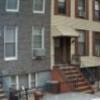stairs: (59, 67, 95, 93)
